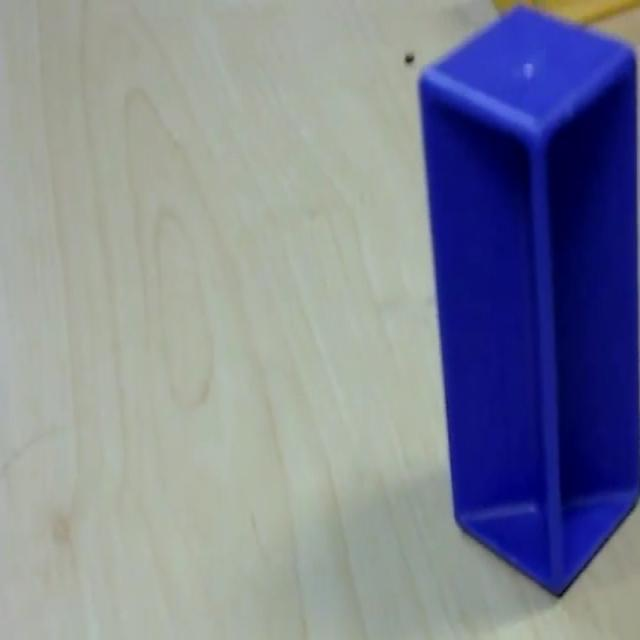blue_block: (416, 3, 638, 596)
